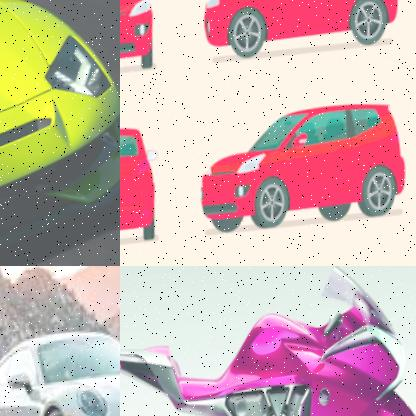bike: (120, 266, 416, 416)
car: (188, 94, 416, 230), (190, 0, 416, 64), (0, 309, 120, 416), (120, 123, 176, 252), (120, 0, 178, 76)
